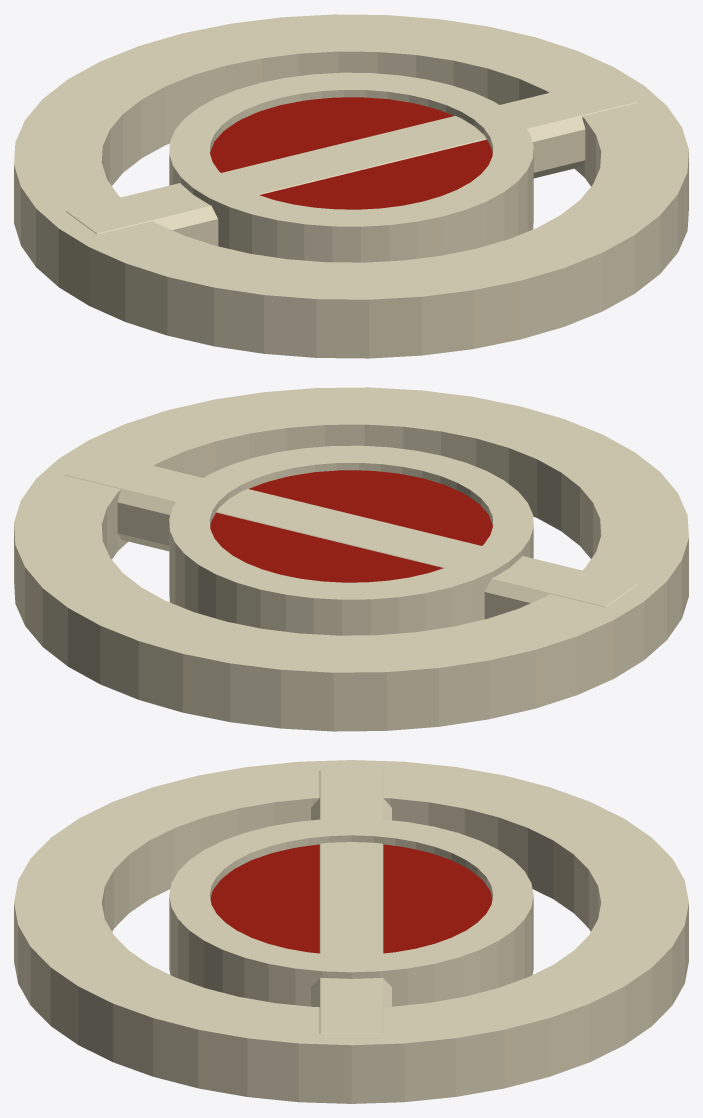
File: HealingEmblem.obj
3 views of the same model, one above another, from view 1: azimuth 30°, elevation 25°; view 2: azimuth 150°, elevation 25°; view 3: azimuth 270°, elevation 25° (orthographic).
Parts seen in each view (by area): view 1: HealingEmblem; view 2: HealingEmblem; view 3: HealingEmblem.
Boxes of the visible parts, x1,y1,x2,y2 form: HealingEmblem: [14, 14, 688, 358]; HealingEmblem: [14, 387, 688, 731]; HealingEmblem: [14, 760, 688, 1103].
Bounding box in the file's own units: 100 × 12 × 100.
